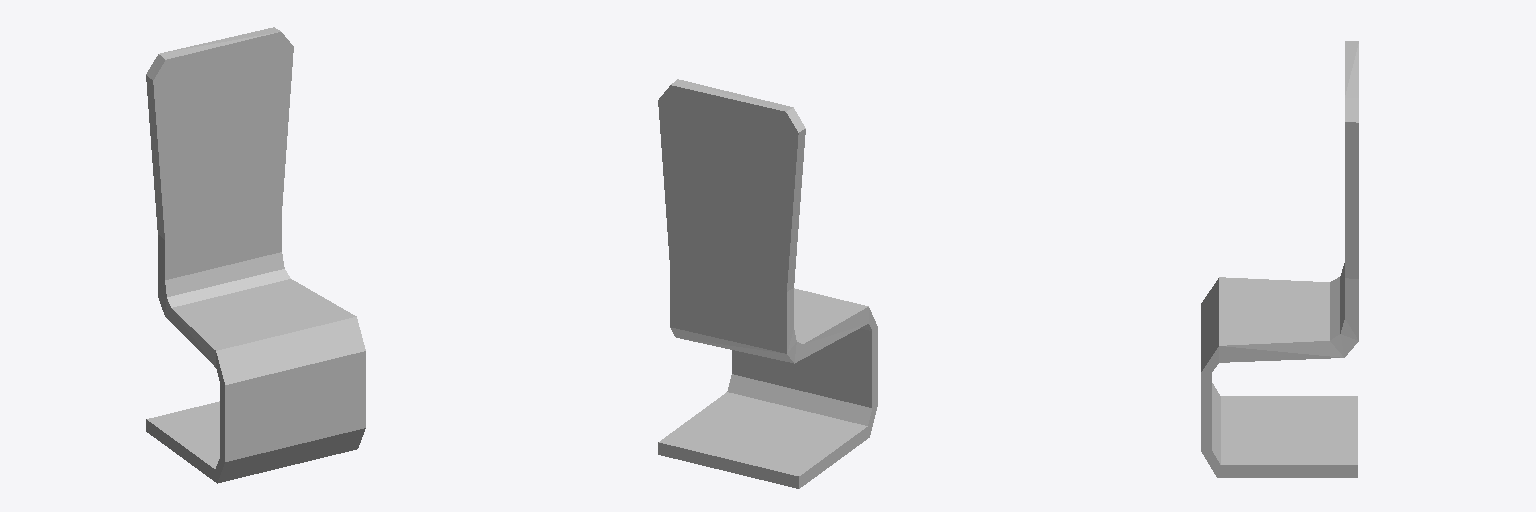
The model's file is chair.obj.
3 views of the same model, side by side, from view 1: azimuth 30°, elevation 25°; view 2: azimuth 150°, elevation 25°; view 3: azimuth 270°, elevation 25° (orthographic).
Visible parts, largest first — view 1: pCube13; view 2: pCube13; view 3: pCube13.
Part boxes in pixels (left/top/right/bottom): pCube13: left=146, top=27, right=365, bottom=483; pCube13: left=658, top=79, right=877, bottom=488; pCube13: left=1201, top=41, right=1358, bottom=477.
Size of the model in its own units: 2.59 by 6.57 by 2.53.